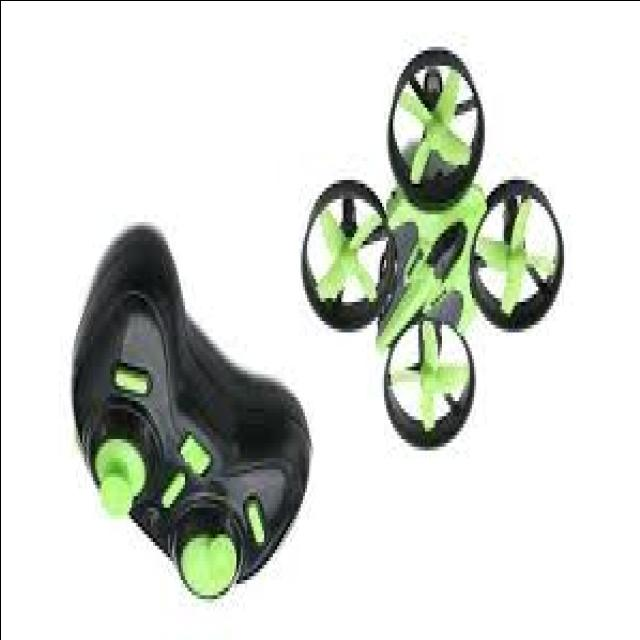drone: (292, 32, 569, 460)
